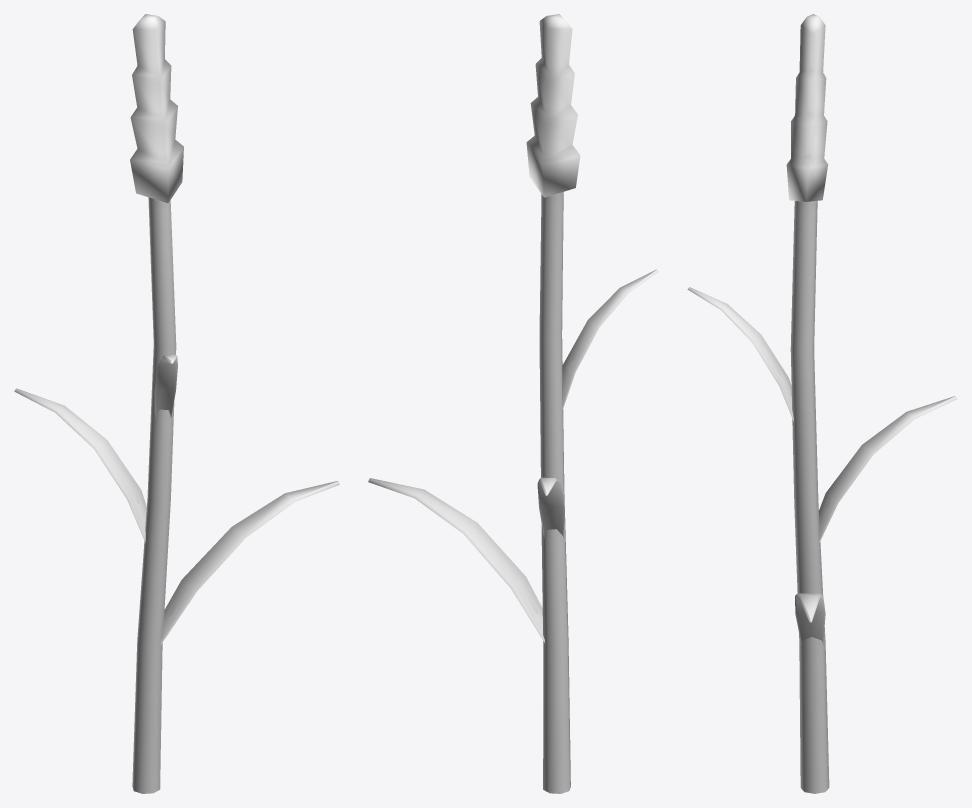
The model's file is wheat2_lod.fbx.
3 views of the same model, side by side, from view 1: azimuth 30°, elevation 25°; view 2: azimuth 150°, elevation 25°; view 3: azimuth 270°, elevation 25° (orthographic).
Parts seen in each view (by area): view 1: wheat2_LOD0; view 2: wheat2_LOD0; view 3: wheat2_LOD0.
Part boxes in pixels (left/top/right/bottom): wheat2_LOD0: left=14, top=14, right=339, bottom=793; wheat2_LOD0: left=368, top=14, right=658, bottom=793; wheat2_LOD0: left=687, top=14, right=957, bottom=793.
Size of what is drawn, in the model's own units: 35.5 by 104 by 32.94.
Materials: 1 (1 with a texture image).
